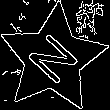N_SE: (22, 27, 85, 91)
